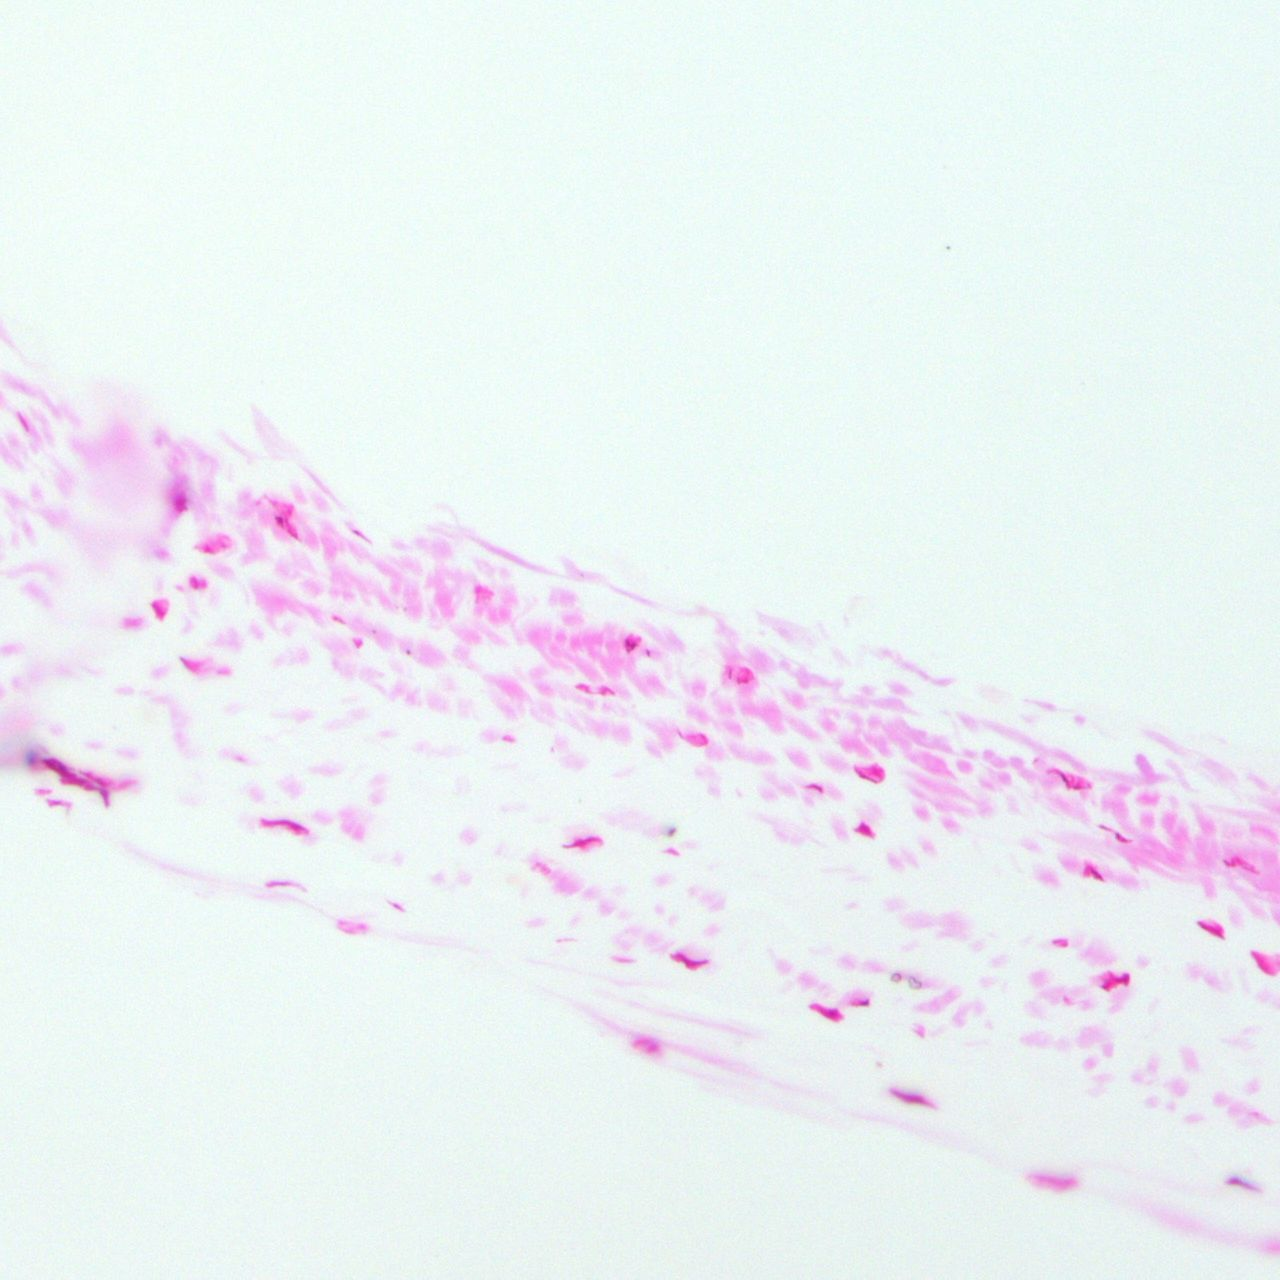dust: (907, 978, 921, 988), (890, 972, 901, 982), (667, 825, 678, 836), (942, 241, 953, 250), (406, 647, 411, 655), (402, 604, 407, 613), (394, 604, 399, 611), (372, 628, 376, 634)
nucleus-FG: (258, 813, 312, 839), (888, 1085, 935, 1110), (1094, 821, 1132, 846), (1099, 967, 1133, 994), (670, 952, 712, 974), (808, 999, 843, 1022), (1248, 948, 1275, 979), (563, 835, 605, 853), (1047, 765, 1075, 789), (1196, 920, 1226, 941), (1225, 1176, 1262, 1192), (853, 765, 880, 787), (80, 769, 110, 787), (43, 758, 68, 777), (178, 655, 198, 675), (1088, 864, 1108, 884), (576, 683, 611, 694), (150, 599, 166, 621), (350, 527, 372, 544), (387, 899, 408, 915), (1221, 857, 1245, 869), (16, 411, 29, 433), (263, 878, 291, 887), (855, 822, 873, 836), (100, 790, 111, 809), (60, 778, 86, 787), (851, 998, 870, 1008), (804, 783, 824, 792), (663, 845, 681, 856), (286, 529, 299, 542), (173, 496, 188, 508), (625, 639, 636, 651), (700, 731, 709, 745), (275, 515, 284, 529), (331, 617, 346, 624), (47, 799, 64, 805), (736, 676, 748, 685), (192, 576, 198, 590), (204, 546, 212, 553)
